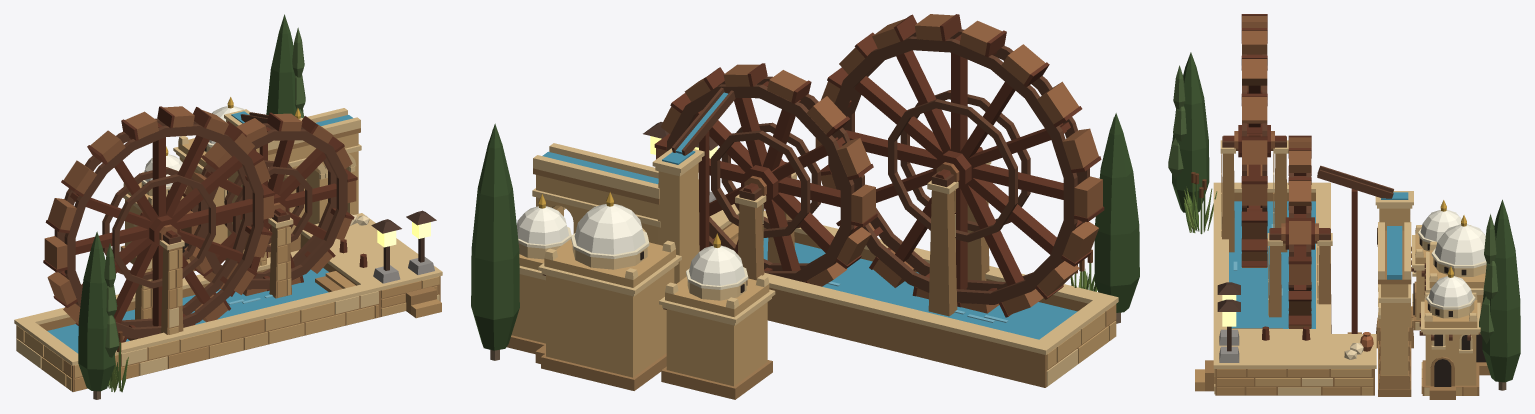
File: noria_town.glb
3 renders of one model, left to right at view 1: azimuth 30°, elevation 25°; view 2: azimuth 150°, elevation 25°; view 3: azimuth 270°, elevation 25°, orthographic. The views are drawn at different scales.
Parts seen in each view (by area): view 1: noria_town_NT_Wood, noria_town_NT_TimberDark, noria_town_NT_HoneyLight, noria_town_NT_Honey, noria_town_NT_WoodLight, noria_town_NT_Cypress, noria_town_NT_HoneyShade, noria_town_NT_HoneyMid, noria_town_NT_Water, noria_town_NT_CypressLight, noria_town_WarmMini_wooddark, noria_town_WarmMini_stone (+2 smaller); view 2: noria_town_NT_TimberDark, noria_town_NT_Honey, noria_town_NT_Wood, noria_town_NT_HoneyShade, noria_town_NT_HoneyLight, noria_town_NT_WoodLight, noria_town_NT_Cypress, noria_town_NT_Water, noria_town_NT_Porcelain, noria_town_NT_Ivory; view 3: noria_town_NT_HoneyLight, noria_town_NT_Honey, noria_town_NT_HoneyShade, noria_town_NT_Cypress, noria_town_NT_WoodLight, noria_town_NT_TimberDark, noria_town_NT_Water, noria_town_NT_Porcelain, noria_town_NT_HoneyMid, noria_town_NT_Wood, noria_town_NT_CypressLight, noria_town_NT_DeepArch (+7 smaller).
Part boxes in pixels (left/top/right/bottom): noria_town_NT_Wood: left=54, top=112, right=347, bottom=338; noria_town_NT_TimberDark: left=43, top=106, right=367, bottom=342; noria_town_NT_HoneyLight: left=14, top=108, right=442, bottom=375; noria_town_NT_Honey: left=16, top=133, right=439, bottom=390; noria_town_NT_WoodLight: left=44, top=106, right=356, bottom=342; noria_town_NT_Cypress: left=78, top=14, right=303, bottom=391; noria_town_NT_HoneyShade: left=16, top=128, right=440, bottom=391; noria_town_NT_HoneyMid: left=63, top=245, right=441, bottom=391; noria_town_NT_Water: left=47, top=111, right=353, bottom=353; noria_town_NT_CypressLight: left=104, top=27, right=305, bottom=357; noria_town_WarmMini_wooddark: left=371, top=210, right=436, bottom=270; noria_town_WarmMini_stone: left=373, top=257, right=434, bottom=283; noria_town_NT_TimberDark: left=654, top=14, right=1104, bottom=317; noria_town_NT_Honey: left=511, top=163, right=1116, bottom=386; noria_town_NT_Wood: left=542, top=29, right=1089, bottom=309; noria_town_NT_HoneyShade: left=506, top=168, right=1116, bottom=399; noria_town_NT_HoneyLight: left=518, top=143, right=1118, bottom=386; noria_town_NT_WoodLight: left=656, top=14, right=1102, bottom=315; noria_town_NT_Cypress: left=471, top=113, right=1139, bottom=350; noria_town_NT_Water: left=542, top=92, right=1077, bottom=339; noria_town_NT_Porcelain: left=516, top=204, right=745, bottom=285; noria_town_NT_Ivory: left=518, top=227, right=748, bottom=289; noria_town_NT_HoneyLight: left=1213, top=140, right=1486, bottom=395; noria_town_NT_Honey: left=1214, top=192, right=1485, bottom=395; noria_town_NT_HoneyShade: left=1205, top=153, right=1490, bottom=399; noria_town_NT_Cypress: left=1172, top=52, right=1520, bottom=382; noria_town_NT_WoodLight: left=1234, top=16, right=1318, bottom=328; noria_town_NT_TimberDark: left=1223, top=14, right=1357, bottom=340; noria_town_NT_Water: left=1229, top=192, right=1408, bottom=328; noria_town_NT_Porcelain: left=1420, top=209, right=1485, bottom=306; noria_town_NT_HoneyMid: left=1195, top=153, right=1477, bottom=395; noria_town_NT_Wood: left=1222, top=54, right=1470, bottom=340; noria_town_NT_CypressLight: left=1168, top=65, right=1498, bottom=343; noria_town_NT_DeepArch: left=1413, top=283, right=1485, bottom=386.
Size of the model in its own units: 4.38 by 2.64 by 3.49.
